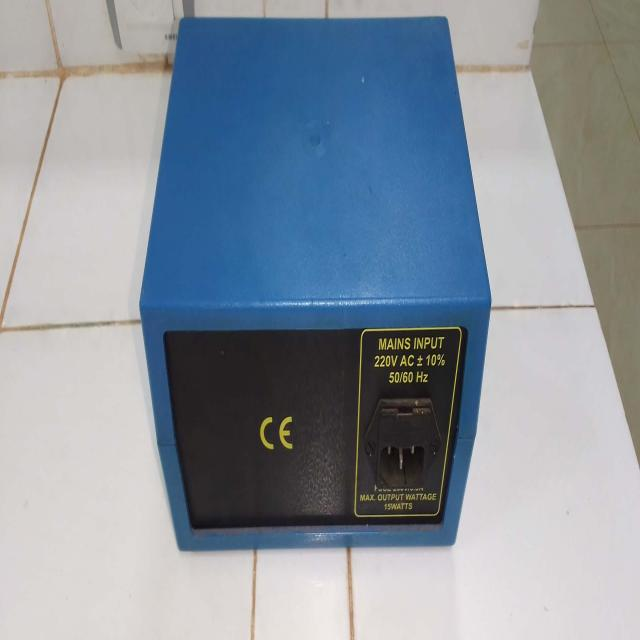Analog DC Power Supply: (145, 30, 495, 572)
